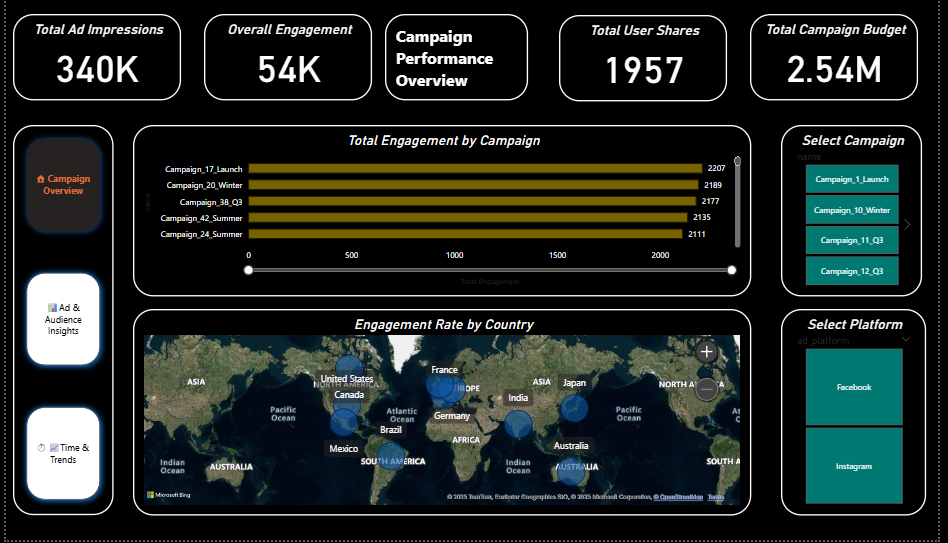

The page's visual inventory and layout, read from the dashboard file:
{"tool":"powerbi","page":{"name":"🏠︎ Campaign Overview","canvas":[1380,800],"ordinal":0},"visuals":[{"type":"card","title":"Total Ad Impressions","fields":{"Values":["Meaasure Table.Total Impressions"]},"box":[10.4,20.8,249.3,127.6],"z":0},{"type":"card","title":"Overall Engagement","fields":{"Values":["Meaasure Table.Total Engagement"]},"box":[293.8,20.8,249.3,127.6],"z":1000},{"type":"card","title":"Total User Shares","fields":{"Values":["Meaasure Table.Total Shares"]},"box":[819.1,22.3,249.3,127.6],"z":2000},{"type":"card","title":"Total Campaign Budget","fields":{"Values":["Meaasure Table.Total Budget"]},"box":[1102.5,20.8,249.3,127.6],"z":3000},{"type":"barChart","title":"Total Engagement by Campaign","fields":{"Y":["Meaasure Table.Total Engagement"],"Category":["social_media_ad campaigns.name"]},"box":[187.4,185.9,915.8,254.5],"z":4000},{"type":"map","title":"Engagement Rate by Country","fields":{"Category":["social_media_ad users.country"],"Size":["Meaasure Table.Engagement Rate"],"Y":["Meaasure Table.Total Impressions"]},"box":[188.1,457.8,915.6,325.9],"z":5000},{"type":"slicer","title":"Select Campaign","fields":{"Values":["social_media_ad campaigns.name"]},"box":[1147.4,185.9,208.8,254.5],"z":6000},{"type":"slicer","title":"Select Platform","fields":{"Values":["social_media_ad ads.ad_platform"]},"box":[1147.4,457.1,214.9,306.3],"z":7000},{"type":"pageNavigator","box":[10.4,195.6,149.6,588.1],"z":8000},{"type":"textbox","box":[560.8,21.3,211.8,128],"z":9000}]}

Visuals, with their boxes in screenshot pixels (x1, y1, x2, y2), scaled from the page's 1380x800 canvas onto the 948x543 screenshot:
"Total Ad Impressions" card: (left=7, top=14, right=178, bottom=101)
"Overall Engagement" card: (left=202, top=14, right=373, bottom=101)
"Total User Shares" card: (left=563, top=15, right=734, bottom=102)
"Total Campaign Budget" card: (left=757, top=14, right=929, bottom=101)
"Total Engagement by Campaign" barChart: (left=129, top=126, right=758, bottom=299)
"Engagement Rate by Country" map: (left=129, top=311, right=758, bottom=532)
"Select Campaign" slicer: (left=788, top=126, right=932, bottom=299)
"Select Platform" slicer: (left=788, top=310, right=936, bottom=518)
pageNavigator: (left=7, top=133, right=110, bottom=532)
textbox: (left=385, top=14, right=531, bottom=101)
